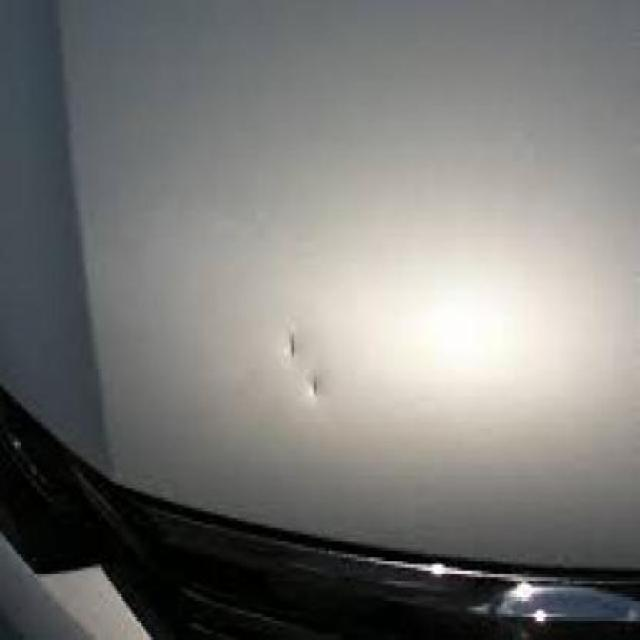bonnet-dent: (0, 5, 638, 602)
